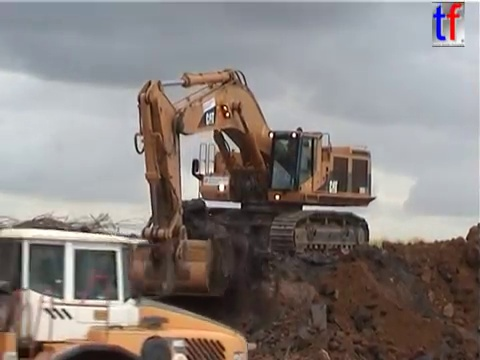excavator: (125, 65, 378, 302)
truck: (1, 222, 258, 360)
